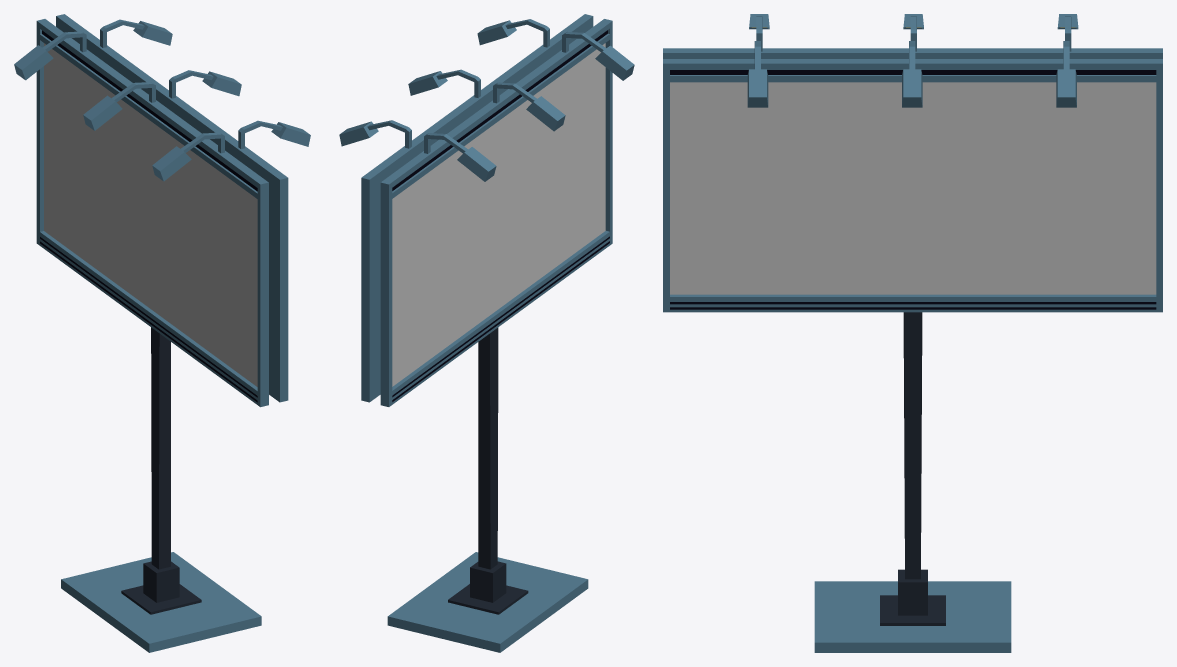
File: Sign_BillboardHuge2Sided01.fbx
The picture shows the model from 3 angles, left to right: view 1: azimuth 30°, elevation 25°; view 2: azimuth 150°, elevation 25°; view 3: azimuth 270°, elevation 25°; orthographic projection. The views are drawn at different scales.
Parts seen in each view (by area): view 1: Cube.568; view 2: Cube.568; view 3: Cube.568.
Part boxes in pixels (x1,y1,x2,y2): Cube.568: (14,14,310,652); Cube.568: (339,14,634,652); Cube.568: (663,14,1162,652).
Size of the model in its own units: 345 by 1164 by 892.
